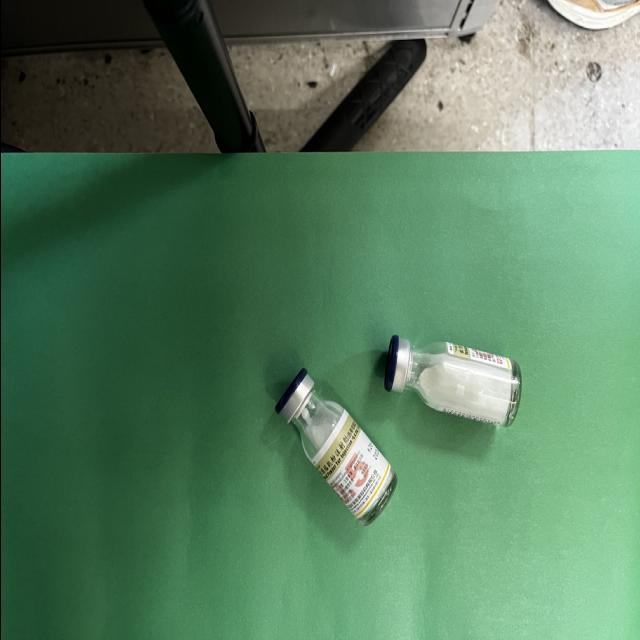Vials: (272, 368, 396, 526), (382, 335, 520, 427)
